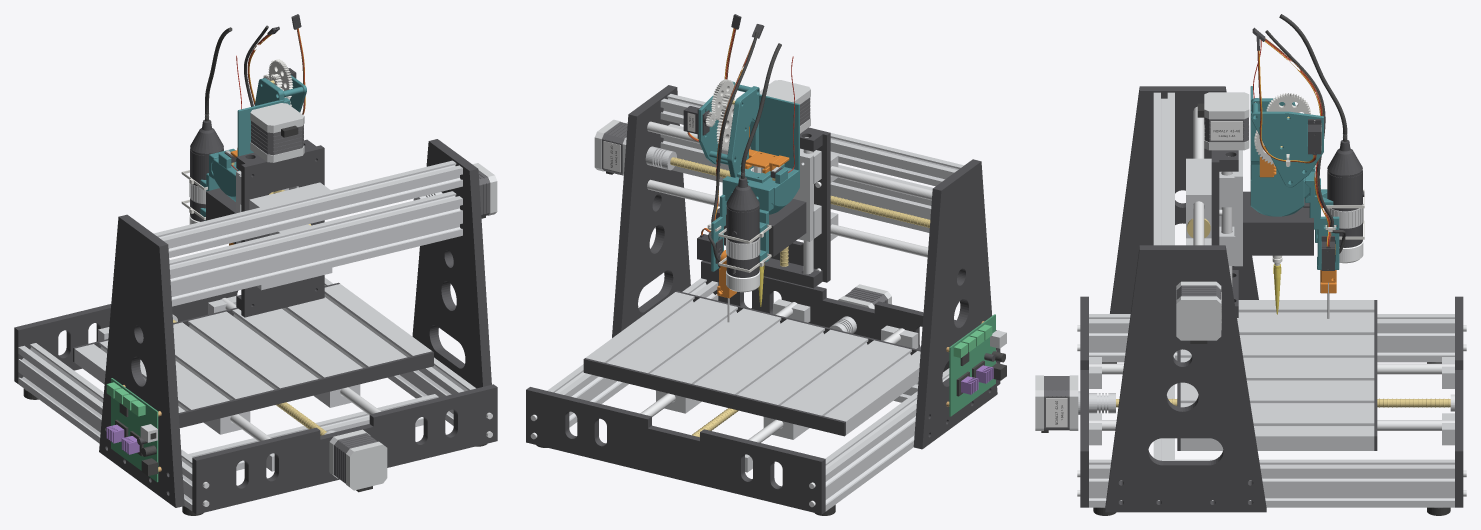
File: cnc3018.glb
The picture shows the model from 3 angles, left to right: view 1: azimuth 30°, elevation 25°; view 2: azimuth 150°, elevation 25°; view 3: azimuth 270°, elevation 25°; orthographic projection. The views are drawn at different scales.
Parts seen in each view (by area): view 1: cnc_base__black, cnc_base__alu, cnc_y_bed__alu, cnc_x_carriage__black, cnc_y_bed__black, cnc_base__cap, syr_body__petg_print, syringe_head__abs_black, cnc_base__pcb, cnc_x_carriage__cap, cnc_x_carriage__alu, cnc_base__stepper (+8 smaller); view 2: cnc_base__black, cnc_y_bed__alu, cnc_base__alu, syr_body__petg_print, cnc_y_bed__black, cnc_base__steel, cnc_x_carriage__black, syringe_head__abs_black, cnc_base__pcb, cnc_base__brass, cnc_z__black, cnc_z__alu (+12 smaller); view 3: cnc_base__black, cnc_base__alu, cnc_y_bed__alu, cnc_base__steel, syringe_head__abs_black, cnc_base__cap, syr_plate2__petg_print, cnc_z__black, syr_body__petg_print, cnc_z__alu, cnc_x_carriage__cap, cnc_x_carriage__alu (+12 smaller).
Boxes of the visible parts, <box> form: cnc_base__black: <box>14,139,497,514</box>; cnc_base__alu: <box>18,160,475,510</box>; cnc_y_bed__alu: <box>74,284,431,434</box>; cnc_x_carriage__black: <box>236,139,324,317</box>; cnc_y_bed__black: <box>73,282,433,427</box>; cnc_base__cap: <box>329,163,497,490</box>; syr_body__petg_print: <box>212,78,290,201</box>; syringe_head__abs_black: <box>190,14,301,221</box>; cnc_base__pcb: <box>111,378,158,482</box>; cnc_x_carriage__cap: <box>250,103,304,162</box>; cnc_x_carriage__alu: <box>249,182,332,290</box>; cnc_base__stepper: <box>334,171,489,483</box>; cnc_base__black: <box>526,85,1000,514</box>; cnc_y_bed__alu: <box>585,292,920,439</box>; cnc_base__alu: <box>547,94,996,511</box>; syr_body__petg_print: <box>727,86,799,214</box>; cnc_y_bed__black: <box>583,291,920,436</box>; cnc_base__steel: <box>530,121,932,507</box>; cnc_x_carriage__black: <box>763,127,830,288</box>; syringe_head__abs_black: <box>683,14,782,277</box>; cnc_base__pcb: <box>949,314,995,416</box>; cnc_base__brass: <box>670,157,930,437</box>; cnc_z__black: <box>715,199,806,256</box>; cnc_z__alu: <box>749,146,821,241</box>; cnc_base__black: <box>1080,86,1463,512</box>; cnc_base__alu: <box>1078,92,1454,507</box>; cnc_y_bed__alu: <box>1180,300,1374,450</box>; cnc_base__steel: <box>1077,106,1466,496</box>; syringe_head__abs_black: <box>1252,27,1364,270</box>; cnc_base__cap: <box>1035,281,1221,430</box>; syr_plate2__petg_print: <box>1250,103,1323,187</box>; cnc_z__black: <box>1243,191,1313,255</box>; syr_body__petg_print: <box>1250,86,1309,216</box>; cnc_z__alu: <box>1219,150,1242,266</box>; cnc_x_carriage__cap: <box>1204,92,1249,150</box>; cnc_x_carriage__alu: <box>1186,158,1211,245</box>.
Size of the model in its own units: 425 by 432 by 401.
